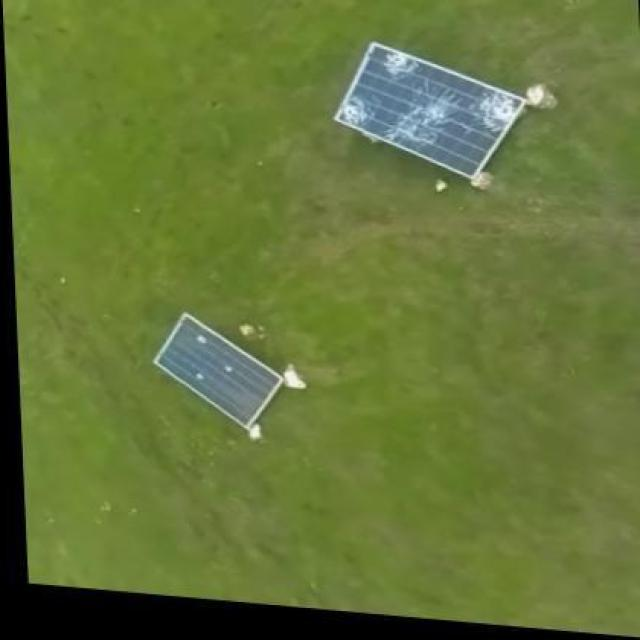cracked: (328, 40, 524, 176)
soiled: (144, 312, 284, 428)
